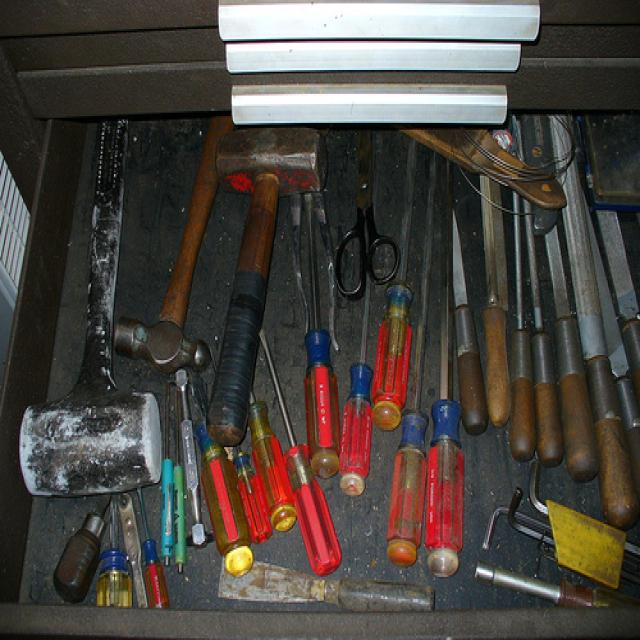hammer: (20, 120, 161, 496), (208, 130, 325, 445), (114, 117, 232, 374)
scissors: (335, 130, 399, 300)
screw_driver: (425, 240, 464, 578), (371, 142, 416, 430), (305, 195, 340, 478)
